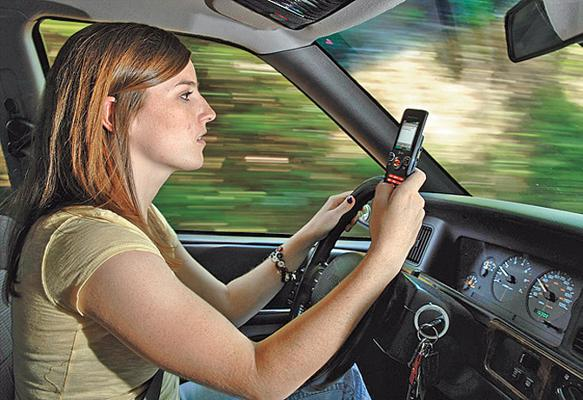person: (10, 22, 427, 398)
